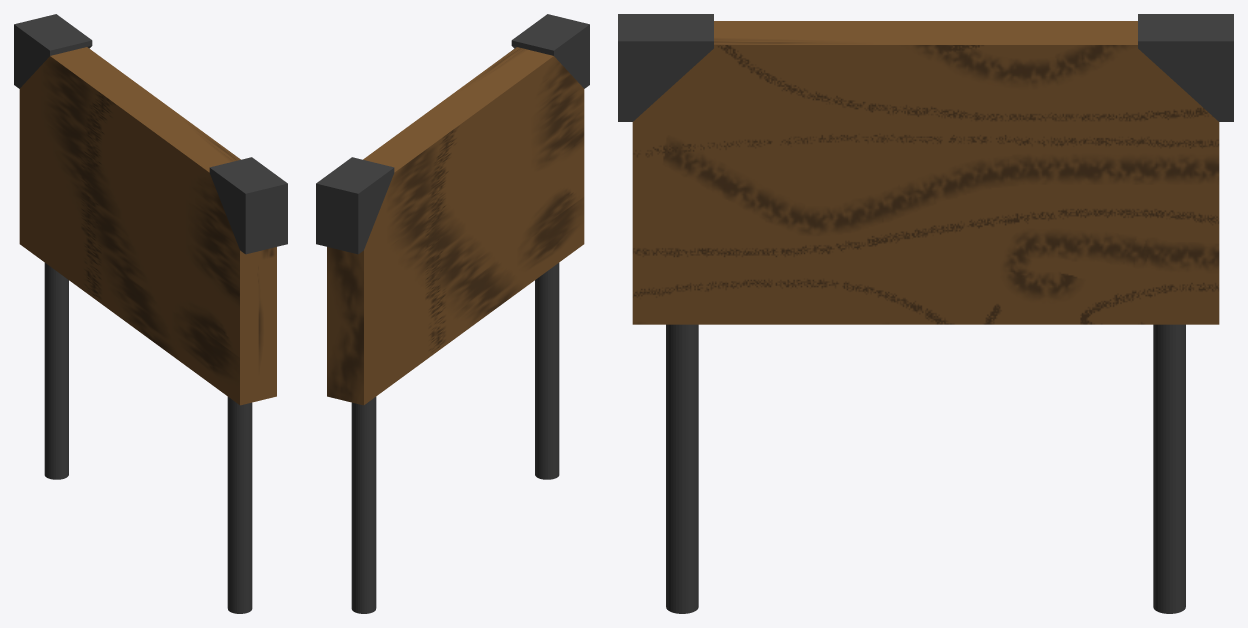
File: timer_sign.fbx
3 views of the same model, side by side, from view 1: azimuth 30°, elevation 25°; view 2: azimuth 150°, elevation 25°; view 3: azimuth 270°, elevation 25° (orthographic). The views are drawn at different scales.
Visible parts, largest first — view 1: Cube, Cylinder; view 2: Cube, Cylinder; view 3: Cube, Cylinder.
Part boxes in pixels (x1,y1,x2,y2): Cube: [14, 14, 287, 405]; Cylinder: [44, 263, 252, 613]; Cube: [316, 14, 589, 405]; Cylinder: [351, 263, 559, 613]; Cube: [618, 14, 1233, 324]; Cylinder: [666, 324, 1185, 613].
Size of the model in its own units: 80 by 790 by 758.
